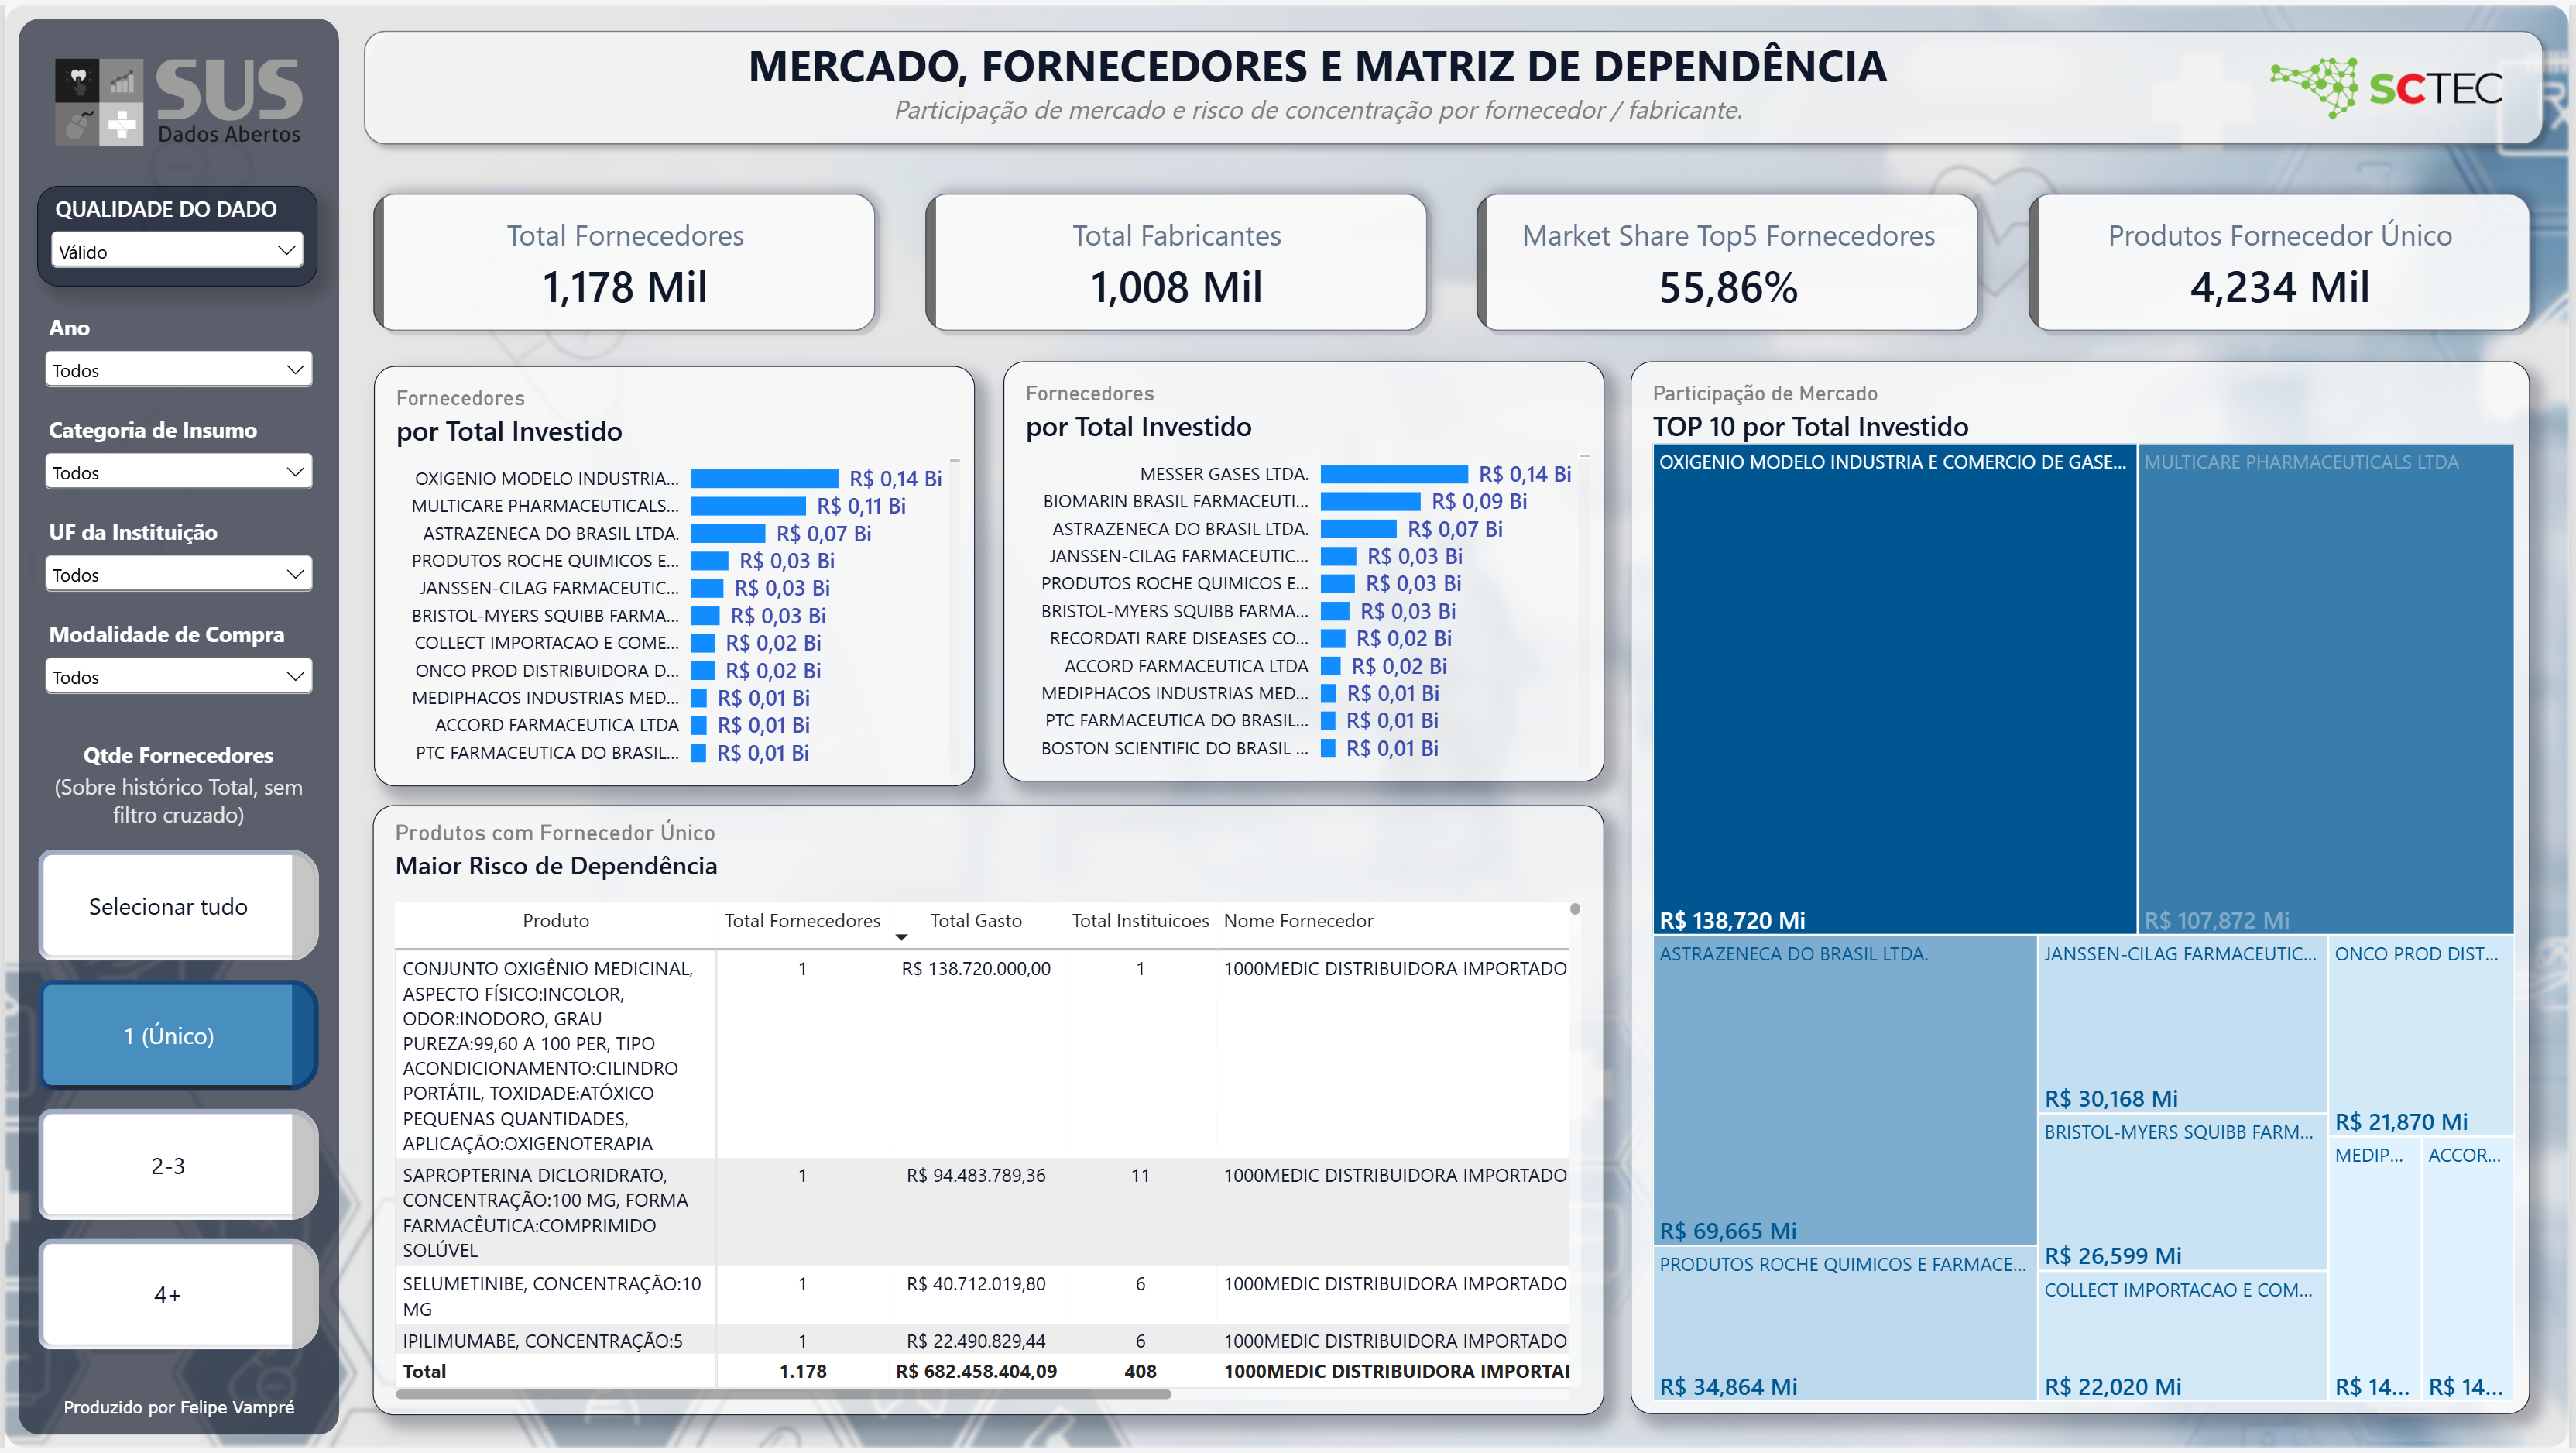

The page's visual inventory and layout, read from the dashboard file:
{"tool":"powerbi","page":{"name":"4. Mercado, Fornecedores e Matriz de Dependência","canvas":[1920,1080],"ordinal":4},"visuals":[{"type":"image","box":[0,0,1920,1080],"z":0},{"type":"shape","box":[260,10,1650,103.3],"z":1000},{"type":"textbox","box":[276.7,22.2,1413.3,72.2],"z":2000},{"type":"image","box":[1690,22.2,190,80],"z":3000},{"type":"shape","box":[10,10,240,1060],"z":4000},{"type":"image","box":[25.6,27.8,210,91.1],"z":5000},{"type":"textbox","box":[26,1039,209,31],"z":6000},{"type":"slicer","title":"Ano","fields":{"Values":["dim_calendario.nr_ano","dim_calendario.nm_mes"]},"box":[25,230,210,80],"z":7000},{"type":"slicer","fields":{"Values":["dim_produto.categoria_insumo"]},"box":[25.6,306.7,210,80],"z":8000},{"type":"slicer","fields":{"Values":["dim_instituicao.uf"]},"box":[25,383.3,210,80],"z":9000},{"type":"slicer","fields":{"Values":["fato_compras.modalidade_compra"]},"box":[25,460,210,80],"z":10000},{"type":"slicer","title":"Ano","fields":{"Values":["fato_compras.flag_qualidade_dado"]},"box":[23.9,135.2,209.9,75],"z":11000},{"type":"cardVisual","fields":{"Data":["_Medidas.Total_Fornecedores","_Medidas.Total_Fabricantes","_Medidas.Market_Share_Top5_Fornecedores","_Medidas.Produtos_Fornecedor_Unico"]},"box":[260,125.6,1650,135.6],"z":12000},{"type":"barChart","title":"Fornecedores","fields":{"Category":["dim_fornecedor.fornecedor"],"Y":["_Medidas.Total_Gasto"]},"box":[276.7,270,450,314.4],"z":13000},{"type":"barChart","title":"Fornecedores","fields":{"Category":["dim_fabricante.fabricante"],"Y":["_Medidas.Total_Gasto"]},"box":[747.8,266.7,450,314.4],"z":14000},{"type":"treemap","title":"Participação de Mercado","fields":{"Group":["dim_fornecedor.fornecedor"],"Values":["_Medidas.Total_Gasto"]},"box":[1217.8,266.7,673.3,787.8],"z":15000},{"type":"pivotTable","title":" Produtos com Fornecedor Único","fields":{"Rows":["dim_produto.descricao_catmat"],"Values":["_Medidas.Total_Fornecedores","_Medidas.Total_Gasto","_Medidas.Total_Instituicoes","Min(dim_fornecedor.fornecedor)"]},"box":[275.6,598.9,922.2,456.7],"z":16000},{"type":"advancedSlicerVisual","title":"Qtde Fornecedores","fields":{"Values":["dim_produto.Faixa_Qtd_Fornecedores"]},"box":[25.6,550,210,460],"z":17000}]}

Visuals, with their boxes in screenshot pixels (x1, y1, x2, y2), scaled from the page's 1920x1080 canvas onto the 2576x1453 screenshot:
image: detection(0, 0, 2575, 1452)
shape: detection(349, 13, 2563, 153)
textbox: detection(371, 30, 2267, 127)
image: detection(2267, 30, 2523, 138)
shape: detection(13, 13, 335, 1440)
image: detection(34, 37, 316, 160)
textbox: detection(35, 1398, 315, 1440)
"Ano" slicer: detection(33, 310, 315, 417)
slicer - dim_produto.categoria_insumo: detection(34, 413, 316, 520)
slicer - dim_instituicao.uf: detection(33, 516, 315, 623)
slicer - fato_compras.modalidade_compra: detection(33, 619, 315, 726)
"Ano" slicer: detection(32, 182, 314, 283)
cardVisual - _Medidas.Total_Fornecedores x _Medidas.Total_Fabricantes: detection(349, 169, 2563, 352)
"Fornecedores" barChart: detection(371, 363, 975, 786)
"Fornecedores" barChart: detection(1003, 359, 1607, 781)
"Participação de Mercado" treemap: detection(1634, 359, 2537, 1419)
" Produtos com Fornecedor Único" pivotTable: detection(370, 806, 1607, 1420)
"Qtde Fornecedores" advancedSlicerVisual: detection(34, 740, 316, 1359)
